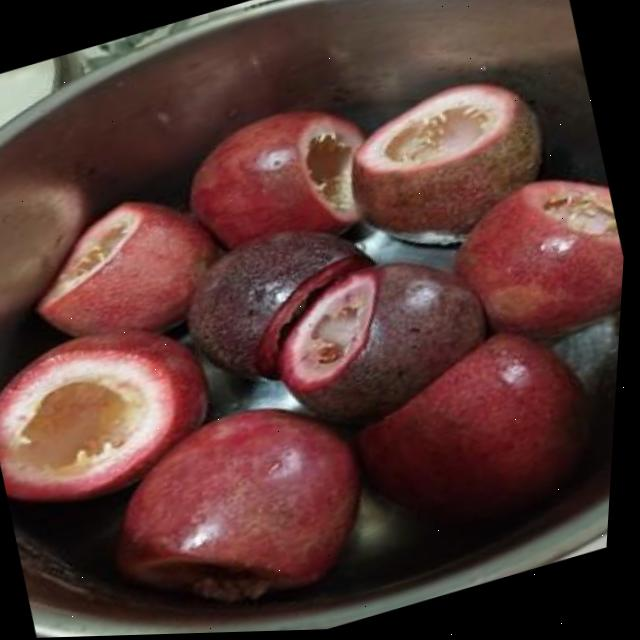Wet: (0, 28, 638, 640)
